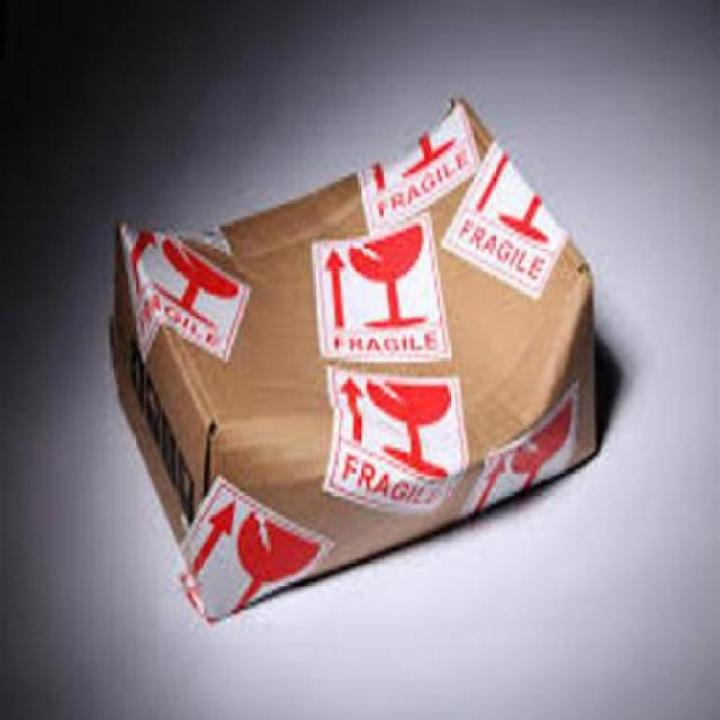box: (97, 95, 616, 632)
